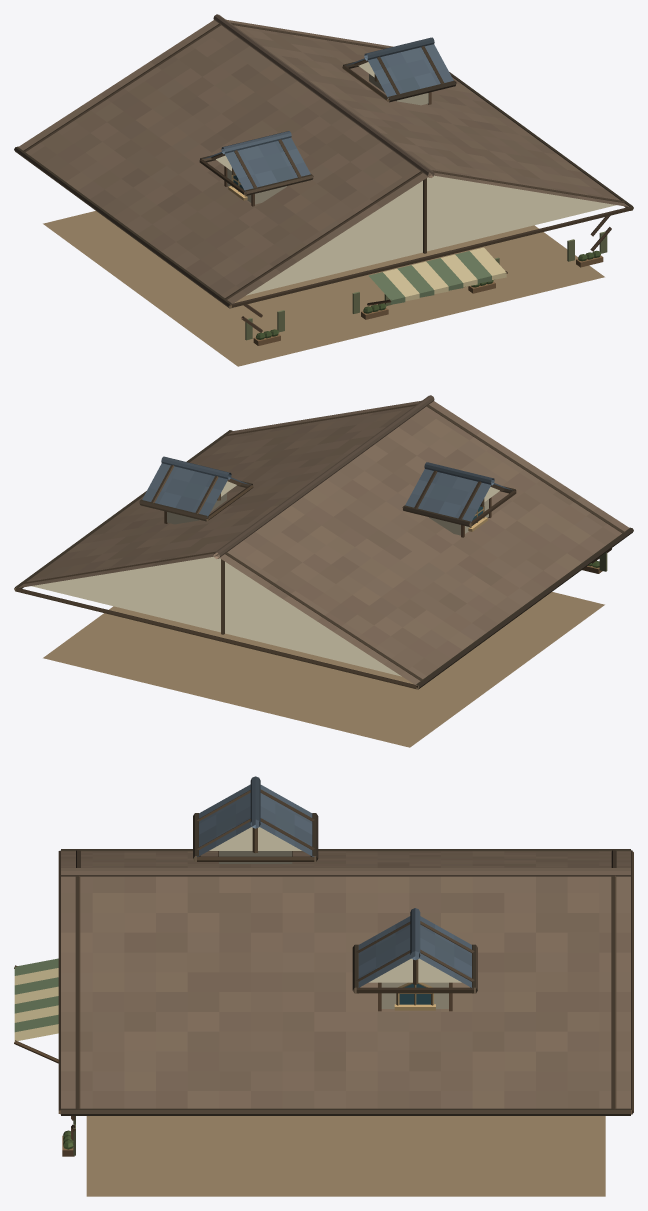
The picture shows the model from 3 angles, top to bottom: view 1: azimuth 30°, elevation 25°; view 2: azimuth 150°, elevation 25°; view 3: azimuth 270°, elevation 25°; orthographic projection. The views are drawn at different scales.
Parts seen in each view (by area): view 1: 39a06f001330d972af69709d4b9f695e390fea3f96559352d9be3203be1b; view 2: 39a06f001330d972af69709d4b9f695e390fea3f96559352d9be3203be1b; view 3: 39a06f001330d972af69709d4b9f695e390fea3f96559352d9be3203be1b.
Part boxes in pixels (x1,y1,x2,y2): 39a06f001330d972af69709d4b9f695e390fea3f96559352d9be3203be1b: (14,14,633,366); 39a06f001330d972af69709d4b9f695e390fea3f96559352d9be3203be1b: (14,395,633,747); 39a06f001330d972af69709d4b9f695e390fea3f96559352d9be3203be1b: (14,776,633,1196).
Size of the model in its own units: 14.02 by 5.32 by 13.98.
6 materials, 1 textured.
